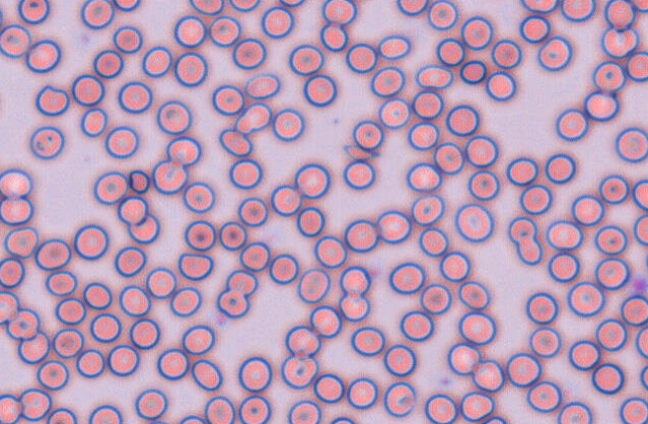PLT: (630, 275, 648, 294)
RBC: (454, 202, 494, 242), (566, 281, 605, 316), (294, 162, 330, 199), (280, 354, 318, 389), (73, 223, 108, 260), (458, 311, 496, 345), (505, 352, 541, 387), (537, 35, 572, 71), (152, 159, 187, 194), (156, 99, 191, 134), (238, 356, 272, 392), (388, 261, 425, 294), (93, 170, 128, 204), (29, 125, 64, 159), (376, 209, 411, 243), (25, 39, 61, 72), (234, 102, 271, 134), (545, 219, 583, 250), (297, 268, 330, 303), (104, 125, 139, 158), (174, 51, 207, 86), (117, 80, 152, 113), (594, 257, 629, 290), (35, 238, 71, 270), (383, 381, 415, 417), (615, 126, 647, 162), (6, 307, 40, 340), (555, 108, 589, 141), (17, 330, 50, 364), (313, 235, 347, 268), (344, 219, 378, 252), (460, 15, 493, 49), (464, 134, 498, 167), (592, 60, 626, 93), (526, 380, 561, 412), (285, 325, 320, 357), (410, 193, 445, 225), (370, 65, 405, 97), (165, 135, 201, 166), (583, 90, 619, 121), (288, 44, 324, 75), (447, 342, 480, 375), (19, 388, 52, 421), (471, 359, 504, 392), (309, 304, 342, 337), (173, 15, 206, 48), (271, 108, 304, 141), (303, 73, 336, 106), (71, 73, 104, 106), (525, 291, 558, 324), (383, 343, 416, 376), (232, 37, 266, 69), (260, 6, 294, 38), (445, 104, 479, 136), (350, 325, 385, 356), (3, 226, 38, 257), (399, 310, 434, 341), (406, 162, 442, 192), (156, 348, 189, 380), (208, 15, 241, 47), (134, 388, 167, 420), (118, 284, 151, 316), (591, 362, 624, 394), (571, 194, 604, 226), (595, 318, 627, 351), (181, 324, 215, 355), (228, 158, 262, 189), (459, 391, 494, 421), (145, 266, 177, 298), (107, 344, 139, 376), (182, 181, 214, 213), (184, 219, 216, 251), (346, 377, 378, 409), (594, 224, 627, 255), (0, 24, 31, 57), (36, 359, 69, 390), (547, 251, 580, 282), (378, 97, 411, 128), (433, 141, 464, 174), (424, 393, 458, 423), (191, 359, 222, 391), (339, 265, 371, 296), (52, 327, 84, 358), (141, 45, 172, 77), (170, 286, 202, 317), (114, 246, 146, 277), (270, 184, 301, 216), (212, 84, 244, 115), (568, 339, 600, 370), (467, 169, 499, 200), (345, 42, 377, 73), (529, 326, 561, 357), (544, 153, 576, 184), (216, 288, 249, 318), (505, 156, 538, 186), (519, 184, 552, 214), (80, 0, 114, 29), (218, 128, 252, 157), (244, 72, 280, 99), (352, 119, 383, 150), (129, 318, 160, 349), (420, 283, 451, 314), (485, 70, 516, 101), (439, 250, 470, 281), (491, 38, 522, 69), (127, 213, 159, 243), (0, 168, 32, 198), (89, 312, 121, 342), (458, 280, 490, 310), (343, 159, 375, 189), (412, 89, 444, 119), (0, 196, 33, 225), (238, 394, 271, 423), (117, 195, 148, 225), (239, 241, 270, 271), (313, 373, 344, 403), (604, 0, 635, 30), (427, 0, 458, 30), (598, 174, 629, 204), (237, 196, 268, 226), (407, 121, 439, 150), (75, 348, 105, 378), (321, 0, 357, 25), (269, 253, 298, 284), (296, 206, 325, 237), (519, 14, 550, 43), (92, 49, 123, 78), (225, 269, 258, 296), (218, 220, 247, 250), (435, 37, 465, 66), (418, 227, 448, 256), (338, 293, 369, 321), (204, 395, 235, 423), (620, 294, 647, 326), (319, 22, 348, 51), (82, 281, 112, 309), (112, 25, 142, 53), (55, 297, 86, 324), (45, 270, 77, 296), (377, 34, 410, 59), (287, 399, 321, 423), (515, 235, 542, 265), (80, 107, 107, 137), (556, 401, 592, 423), (508, 216, 537, 243), (0, 257, 25, 288), (17, 0, 49, 24), (619, 396, 647, 423), (560, 0, 596, 21), (459, 59, 486, 84), (0, 393, 22, 423), (626, 50, 647, 81), (0, 290, 19, 324), (88, 404, 122, 423), (188, 0, 223, 15), (519, 0, 558, 13), (46, 407, 77, 423), (632, 178, 647, 210), (396, 0, 427, 15), (633, 214, 647, 245), (635, 326, 647, 358), (229, 0, 260, 11), (113, 0, 140, 11), (178, 414, 206, 423), (481, 415, 507, 423), (630, 0, 647, 12), (278, 0, 305, 7), (640, 364, 647, 390), (329, 416, 355, 423), (147, 419, 169, 424), (0, 5, 4, 29)
Schistocyte: (600, 27, 639, 58), (178, 252, 215, 281), (416, 64, 455, 90), (36, 85, 69, 115), (342, 144, 383, 161), (129, 169, 151, 194)
